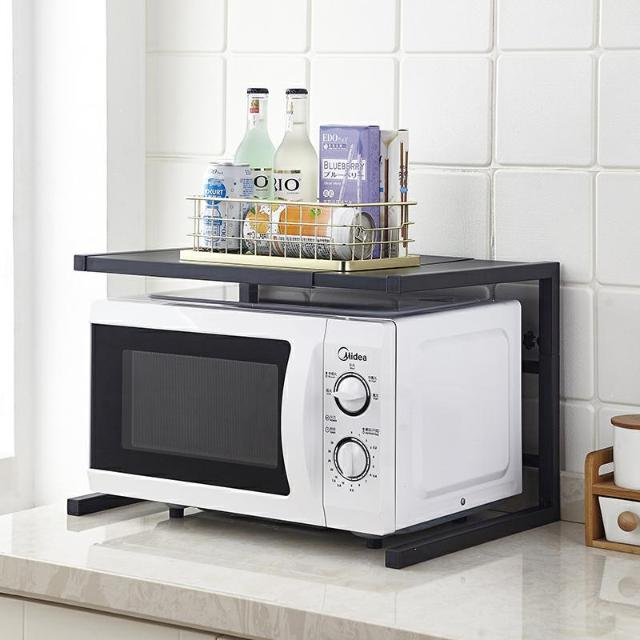Microwave: (72, 296, 528, 542)
